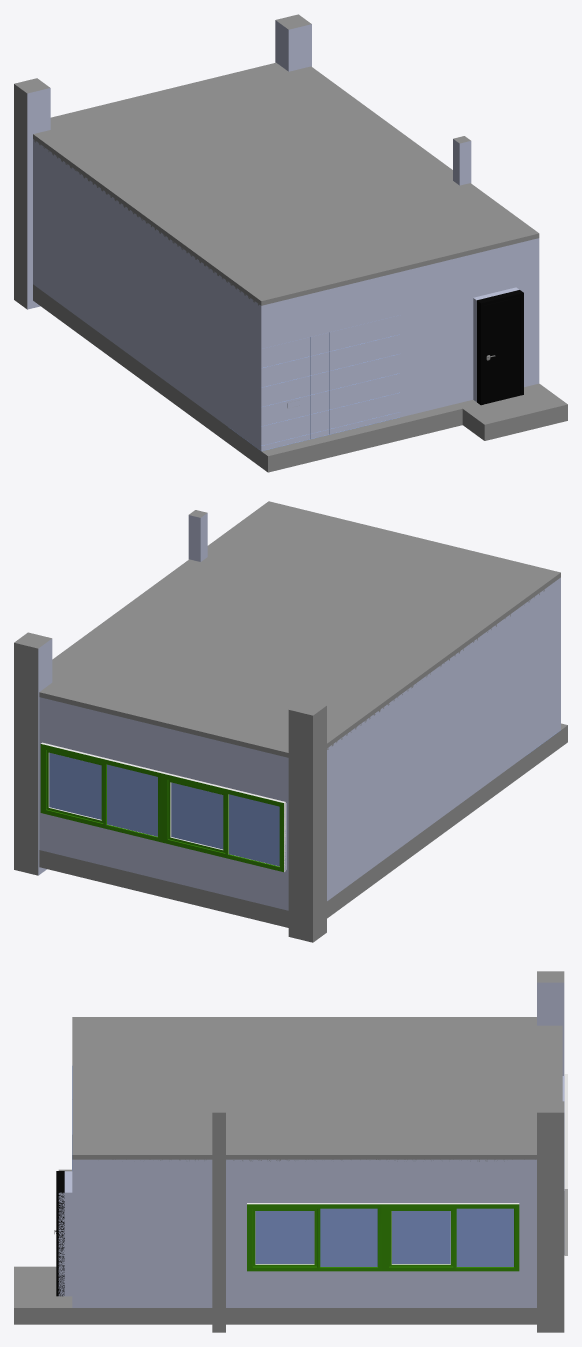
File: follmann_office_base_02_SF.fbx
3 views of the same model, one above another, from view 1: azimuth 30°, elevation 25°; view 2: azimuth 150°, elevation 25°; view 3: azimuth 270°, elevation 25° (orthographic). The views are drawn at different scales.
Visible parts, largest first — view 1: walls.005; view 2: walls.005; view 3: walls.005.
Part boxes in pixels (left/top/right/bottom): walls.005: left=14, top=14, right=567, bottom=472; walls.005: left=14, top=501, right=567, bottom=942; walls.005: left=14, top=971, right=567, bottom=1332.
Size of the model in its own units: 622 by 446 by 1017.
